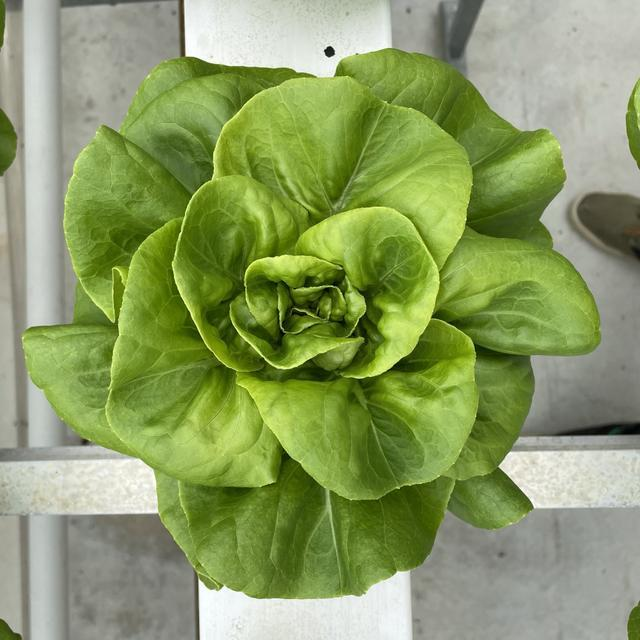Lettuce: (15, 49, 603, 604)
